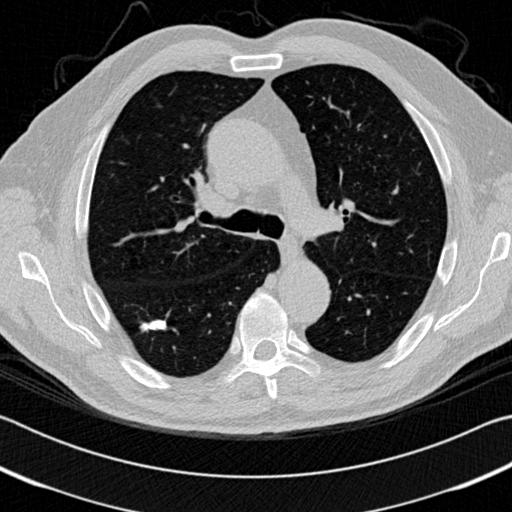nodule: (144, 313, 166, 335)
